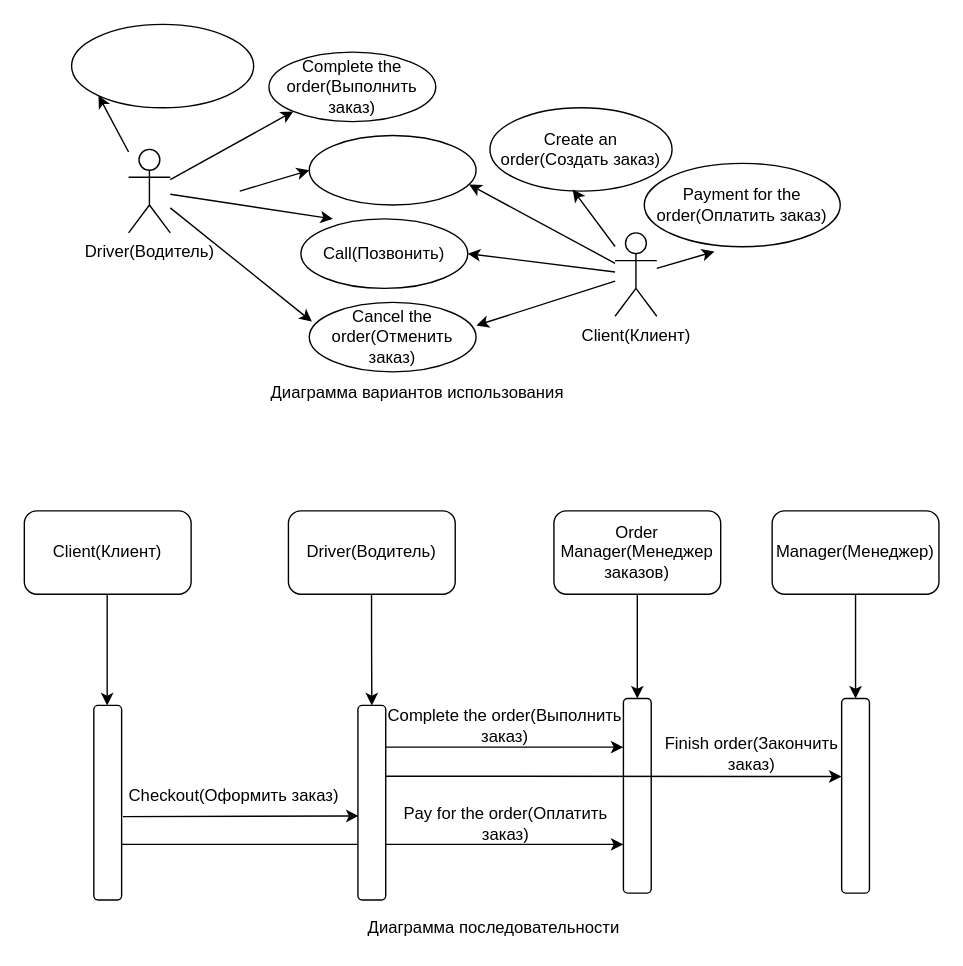
Some shapes in this 963 by 966 pixel diagram are drawn without their labels. The centre of each missing label's shape, as x and y in pixels:
Accept order(Принять заказ): the point at 162,65
Send a message(Отправить сообщение): the point at 392,169
